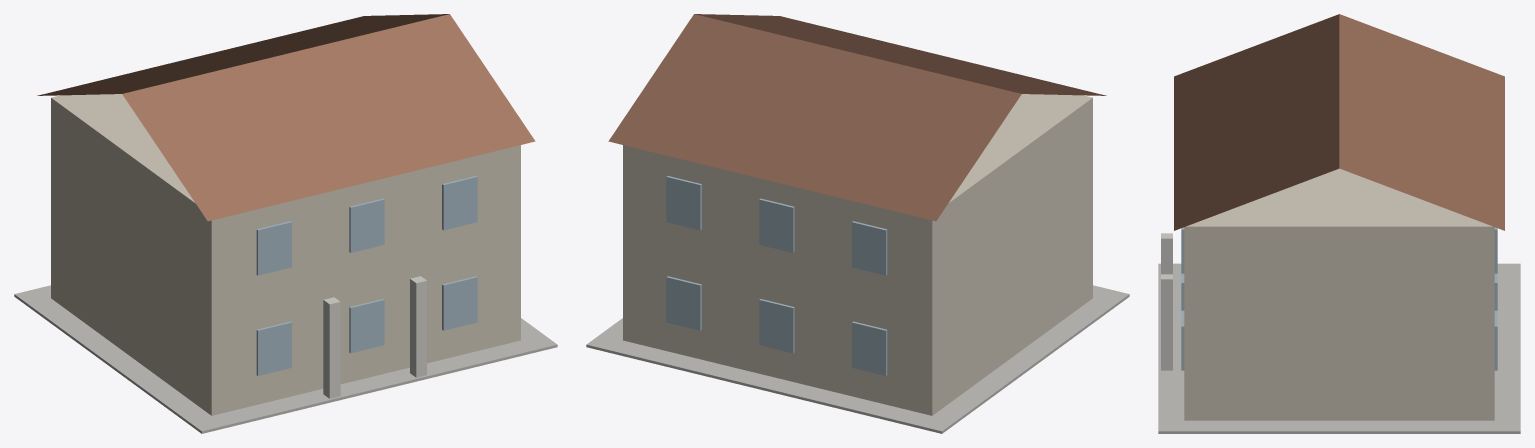
Rendered from italian-compact-villa.glb.
3 renders of one model, left to right at view 1: azimuth 30°, elevation 25°; view 2: azimuth 150°, elevation 25°; view 3: azimuth 270°, elevation 25°, orthographic. The views are drawn at different scales.
Visible parts, largest first — view 1: House; view 2: House; view 3: House.
Part boxes in pixels (x1=…): House: x1=14, y1=14, x2=557, y2=433; House: x1=586, y1=14, x2=1129, y2=433; House: x1=1158, y1=14, x2=1520, y2=433.
Bounding box in the file's own units: 11.5 × 8.28 × 10.5.
